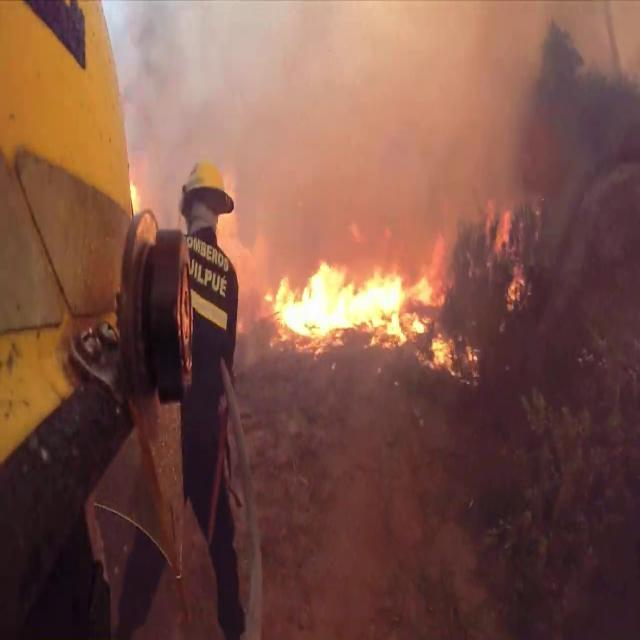Fire: (266, 248, 449, 348)
Smoke: (111, 1, 584, 228)
